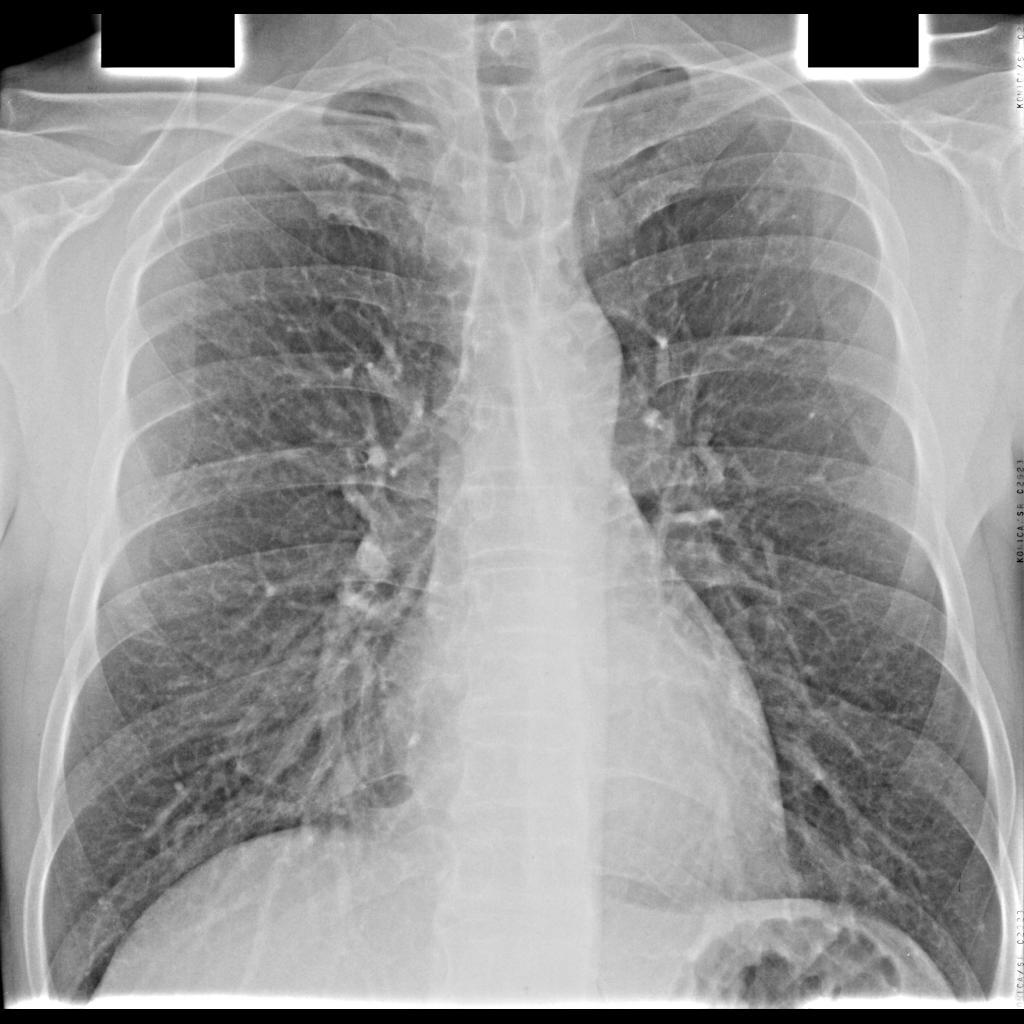Nodule: (748, 184, 790, 227)
